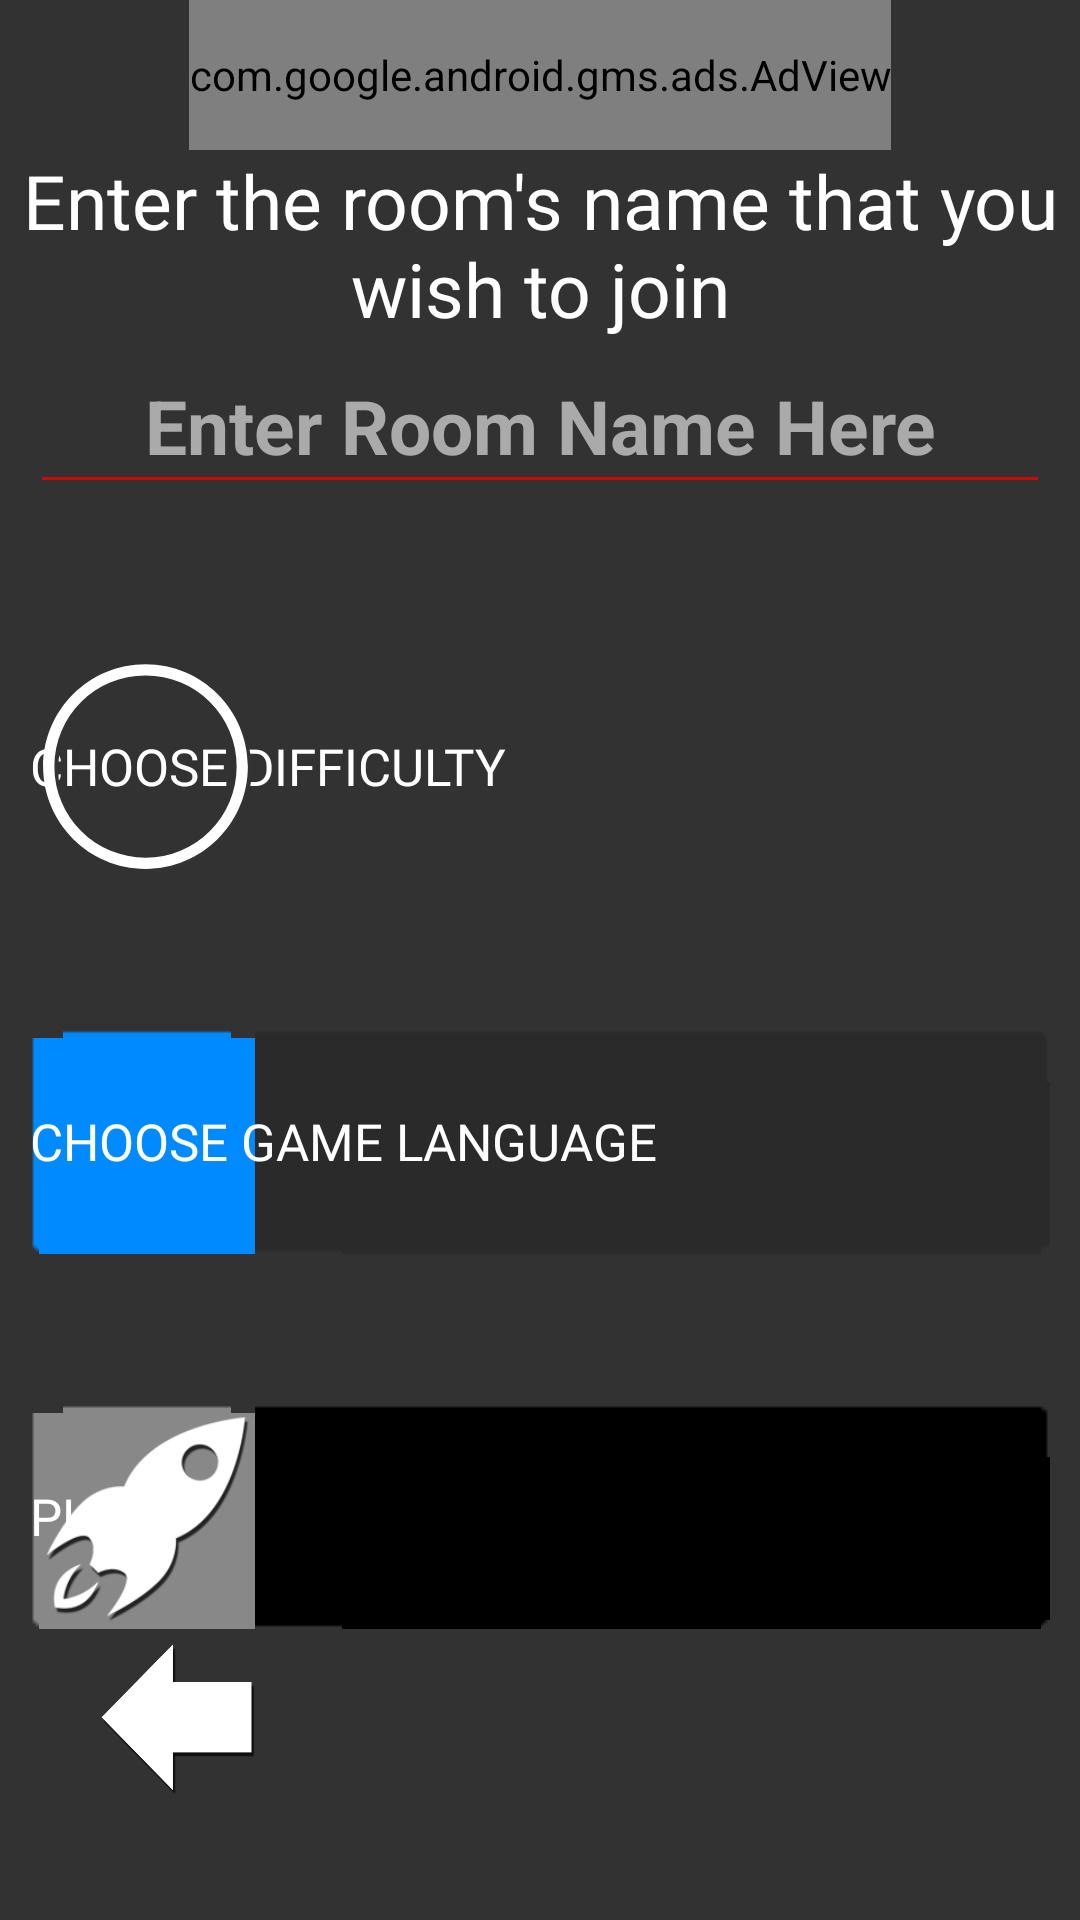

Icons on this 1080w x 1920h Android screen, each with the point to tap as point (x, y):
helper exit: point (177, 1718)
